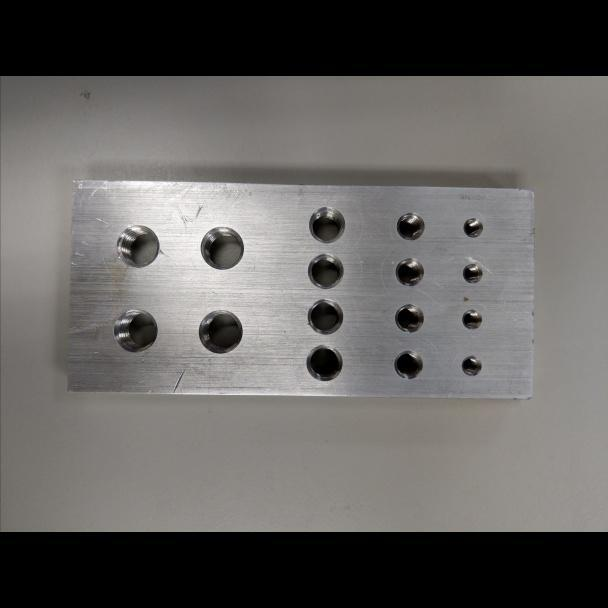hole: (197, 308, 244, 356), (111, 307, 158, 353), (198, 225, 244, 271), (115, 223, 160, 268), (307, 205, 346, 243), (307, 251, 345, 290), (305, 343, 343, 382), (306, 297, 344, 335), (393, 256, 426, 288), (392, 348, 424, 381), (394, 303, 425, 334), (395, 211, 425, 242), (459, 354, 482, 377), (461, 262, 483, 285), (460, 308, 482, 331), (462, 216, 484, 238)
